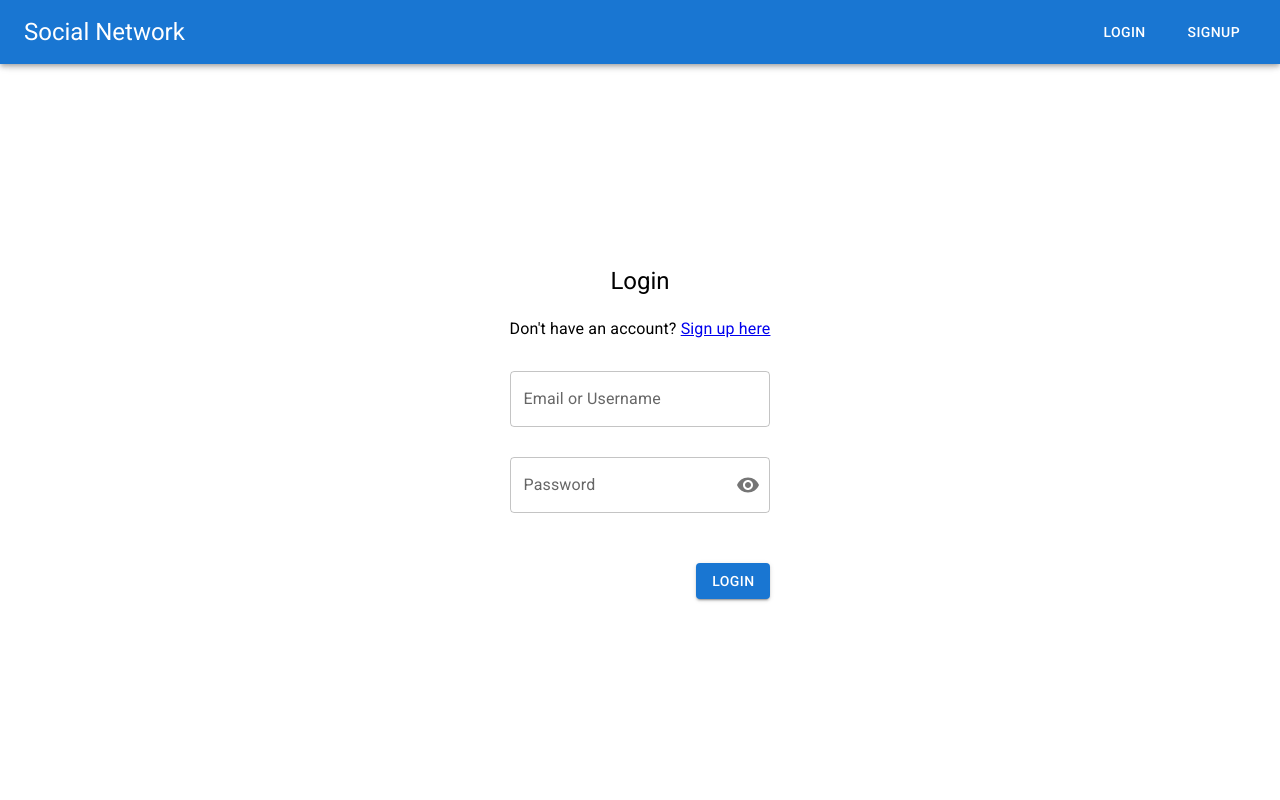
Test: login page › should show error if wrong username or password
Type "john001" into the field labelled "Email or Username".
click(640, 399); type("john001")  # box top-left (510, 371), bottom-right (770, 427)
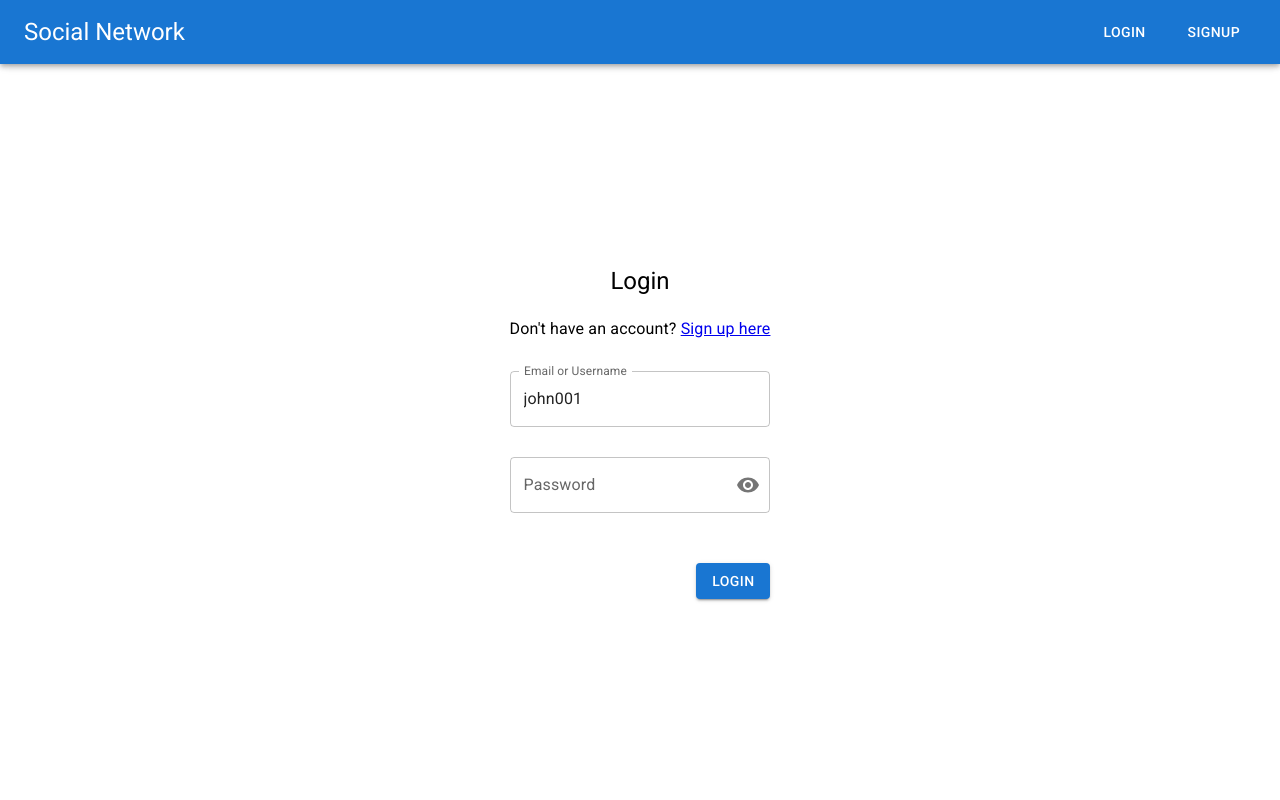
Type "123" into the password field labelled "Password".
click(615, 485); type("123")  # box top-left (510, 457), bottom-right (720, 513)
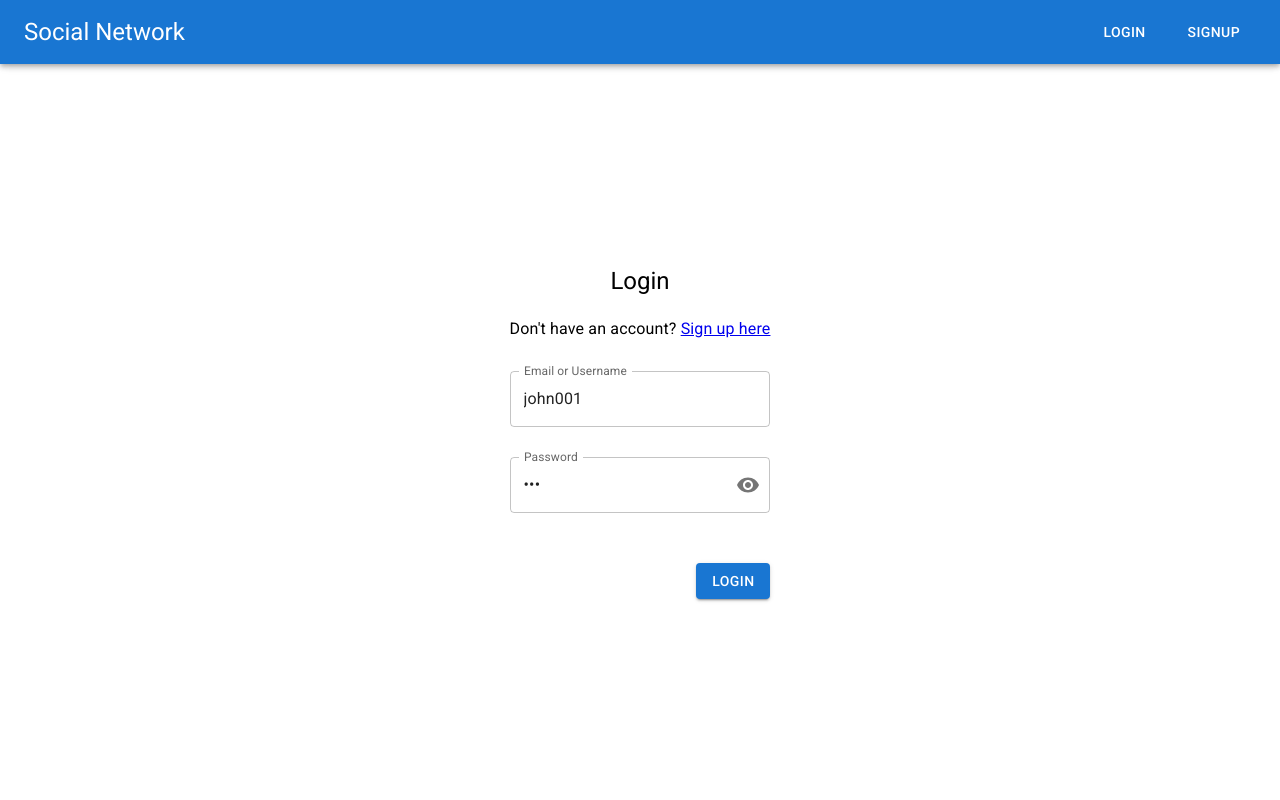
Click the button with test id "login-btn".
click(733, 581)  # box top-left (696, 563), bottom-right (770, 599)
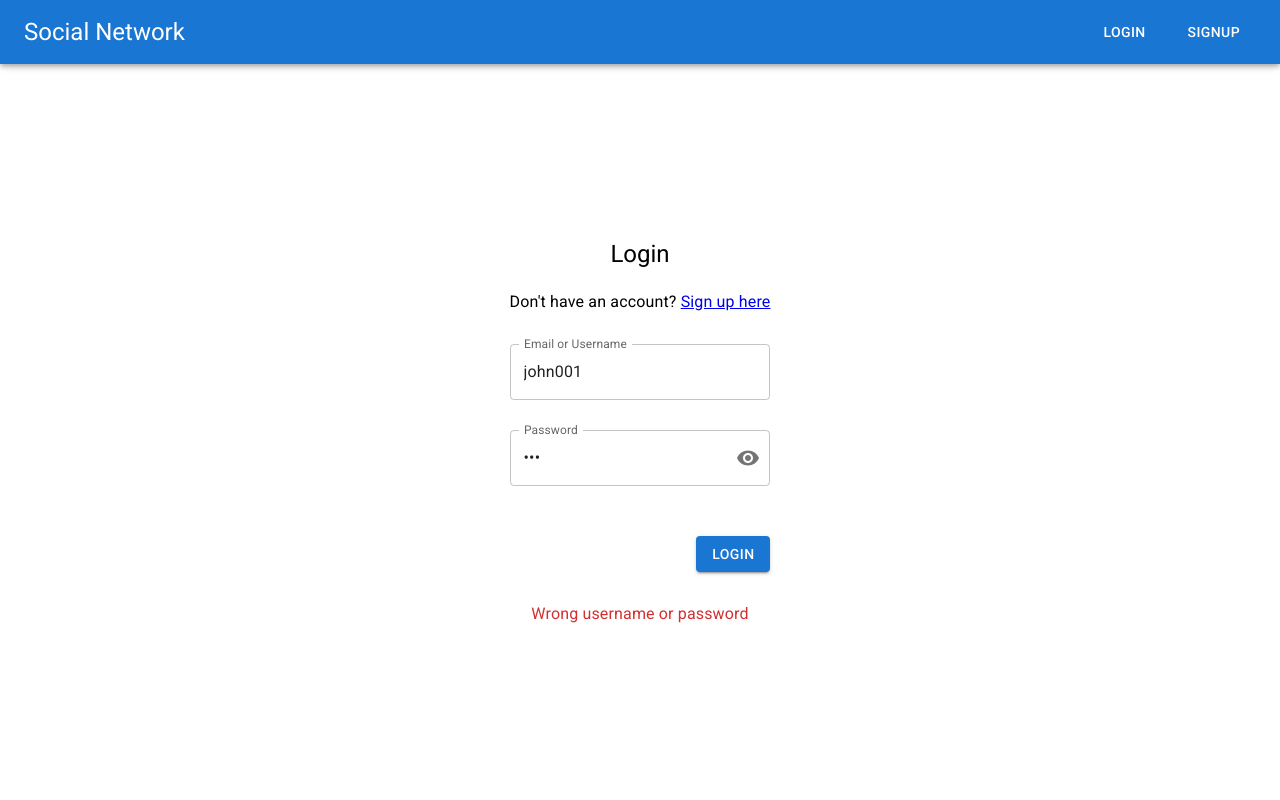
Check: the text with test id "error" reads "Wrong username or password", box top-left (531, 604), bottom-right (749, 623)
